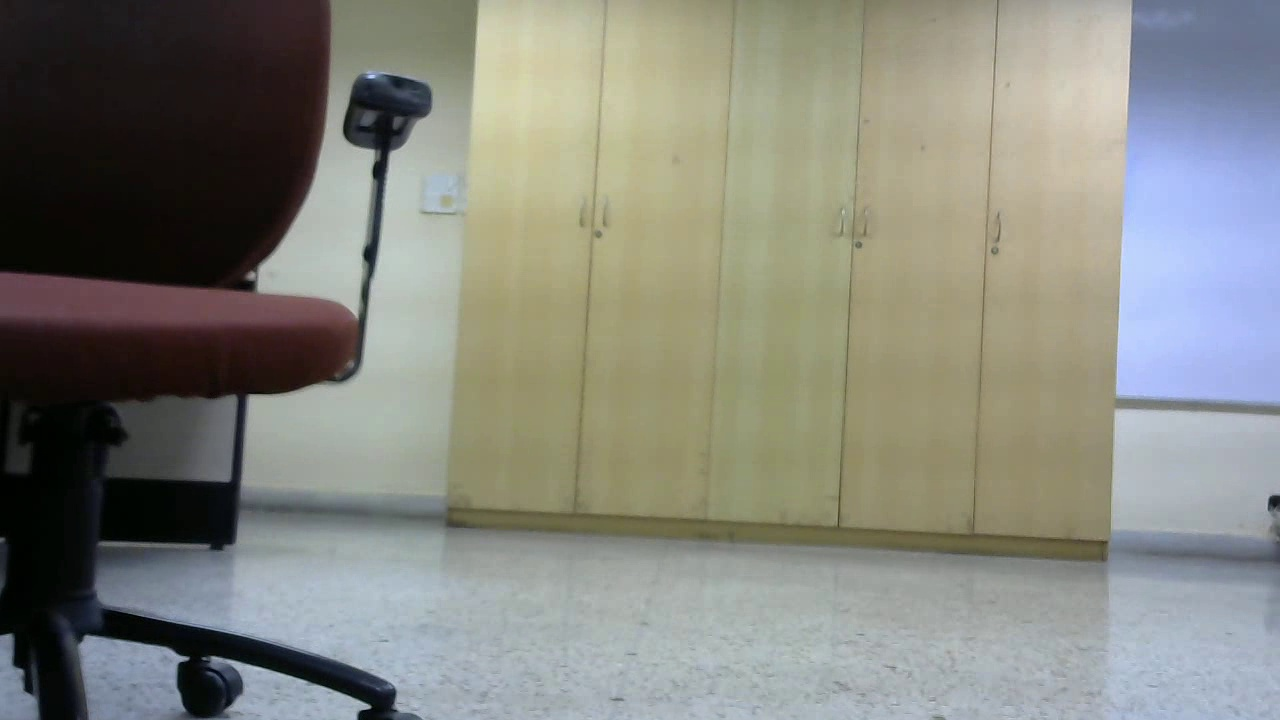chair: (715, 182, 1039, 608), (287, 150, 501, 541)
